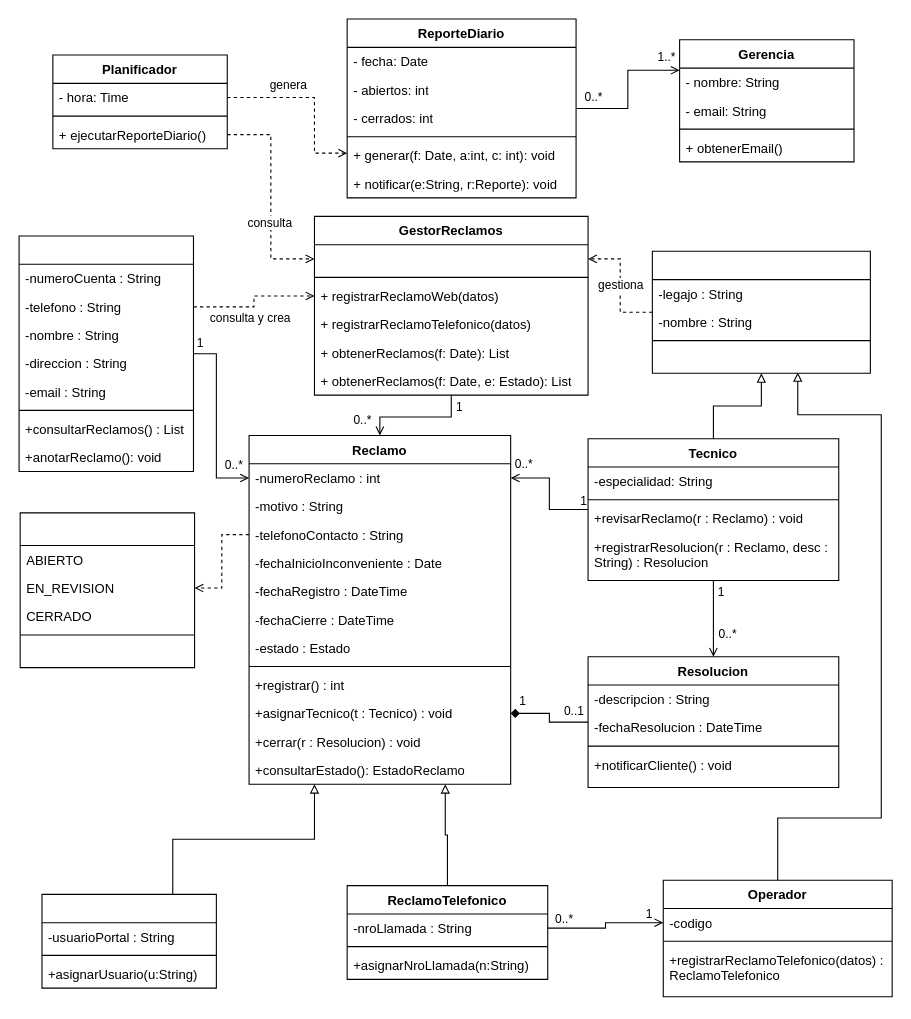
This 911x1019 diagram has some shape labels left out. Each missing label, with the box of its shape:
Cliente: (18, 235, 193, 471)
Empleado: (651, 250, 870, 373)
Estado: (19, 512, 195, 668)
ReclamoWeb: (41, 893, 216, 988)
